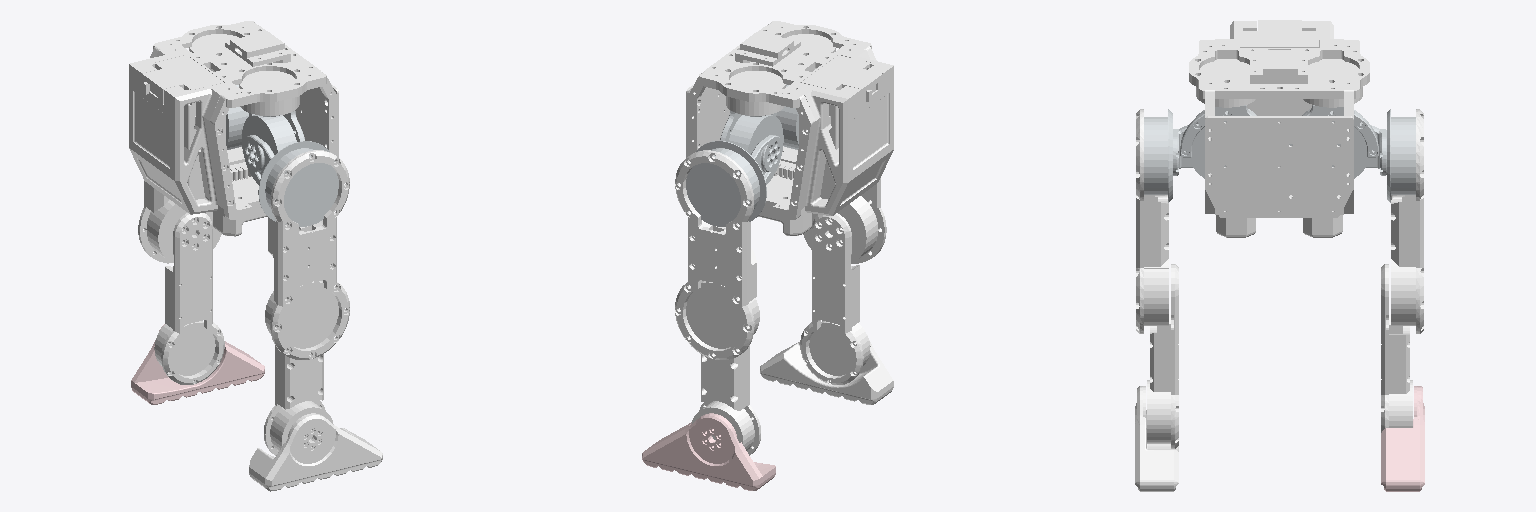
robot.urdf — tinker_urdf:
<?xml version="1.0" encoding="utf-8"?>
<!-- This URDF was automatically created by SolidWorks to URDF Exporter! Originally created by [author] ([email redacted]) 
     Commit Version: 1.6.0-4-g7f85cfe  Build Version: 1.6.7995.38578
     For more information, please see http://wiki.ros.org/sw_urdf_exporter -->
<robot
  name="tinker_urdf">
  <mujoco>
    <compiler
    	meshdir="../meshes/"
    	balanceinertia="true"
    	discardvisual="false" />
  </mujoco>
  <link
    name="base_link">
    <inertial>
      <origin
        xyz="-0.030485 0.000283 0.020881"
        rpy="0 0 0" />
      <mass
        value="2.3933" />
      <inertia
        ixx="0.01079522"
        ixy="0.00006430"
        ixz="-0.00082172"
        iyy="0.01240703"
        iyz="0.00000592"
        izz="0.00996364" /> 
    </inertial>
    <visual>
      <origin
        xyz="0 0 0"
        rpy="0 0 0" />
      <geometry>
        <mesh
          filename="../meshes/base_link.STL" />
      </geometry>
      <material
        name="">
        <color
          rgba="1 1 1 1" />
      </material>
    </visual>
    <collision>
      <origin
        xyz="0 0 0"
        rpy="0 0 0" />
      <geometry>
        <mesh
          filename="../meshes/base_link.STL" />
      </geometry>
    </collision>
  </link>
  <link
    name="link_l_yaw">
    <inertial>
      <origin
        xyz="0.0031721 3.773E-05 -0.050777"     
        rpy="0 0 0" />
      <mass
        value="0.4033" /> 
      <inertia
        ixx="0.00038287"
        ixy="-0.00000022"
        ixz="-0.00000997"
        iyy="0.00023882"
        iyz="-0.00000025"
        izz="0.00020175" />
    </inertial>
    <visual>
      <origin
        xyz="0 0 0"
        rpy="0 0 0" />
      <geometry>
        <mesh
          filename="../meshes/link_l_yaw.STL" />
      </geometry>
      <material
        name="">
        <color
          rgba="0.89804 0.91765 0.92941 1" />
      </material>
    </visual>
    <collision>
      <origin
        xyz="0 0 0"
        rpy="0 0 0" />
      <geometry>
        <mesh
          filename="../meshes/link_l_yaw.STL" />
      </geometry>
    </collision>
  </link>
  <joint
    name="joint_l_yaw"
    type="revolute">
    <origin
      xyz="0.0025357 0.053301 0.056145"
      rpy="0 0 0" />
    <parent
      link="base_link" />
    <child
      link="link_l_yaw" />
    <axis
      xyz="0 0 1" />
    <limit
      lower="-0.66"
      upper="0.66"
      effort="12"
      velocity="20" />
  </joint>
  <link
    name="link_l_roll">
    <inertial>
      <origin
        xyz="0.0090994 0.06545 -0.013394"
        rpy="0 0 0" />
      <mass
        value="0.46748" />
      <inertia
        ixx="0.00037171"
        ixy="-0.00004056"
        ixz="0.00000659"
        iyy="0.00037591"
        iyz="0.00002567"
        izz="0.00036991" />
    </inertial>
    <visual>
      <origin
        xyz="0 0 0"
        rpy="0 0 0" />
      <geometry>
        <mesh
          filename="../meshes/link_l_roll.STL" />
      </geometry>
      <material
        name="">
        <color
          rgba="0.89804 0.91765 0.92941 1" />
      </material>
    </visual>
    <collision>
      <origin
        xyz="0 0 0"
        rpy="0 0 0" />
      <geometry>
        <mesh
          filename="../meshes/link_l_roll.STL" />
      </geometry>
    </collision>
  </link>
  <joint
    name="joint_l_roll"
    type="revolute">
    <origin
      xyz="-0.010958 0 -0.054965"
      rpy="0 0 0" />
    <parent
      link="link_l_yaw" />
    <child
      link="link_l_roll" />
    <axis
      xyz="1 0 0" />
    <limit
      lower="-0.57"
      upper="0.57"
      effort="20"
      velocity="20" />
  </joint>
  <link
    name="link_l_pitch">
    <inertial>
      <origin
        xyz="-0.0013138 0.0056716 -0.12051"
        rpy="0 0 0" />
      <mass
        value="0.56676" />
      <inertia
        ixx="0.00142093"
        ixy="0.00000514"
        ixz="0.00002735"
        iyy="0.00165467"
        iyz="-0.00009716"
        izz="0.00033524" />
    </inertial>
    <visual>
      <origin
        xyz="0 0 0"
        rpy="0 0 0" />
      <geometry>
        <mesh
          filename="../meshes/link_l_pitch.STL" />
      </geometry>
      <material
        name="">
        <color
          rgba="1 1 1 1" />
      </material>
    </visual>
    <collision>
      <origin
        xyz="0 0 0"
        rpy="0 0 0" />
      <geometry>
        <mesh
          filename="../meshes/link_l_pitch.STL" />
      </geometry>
    </collision>
  </link>
  <joint
    name="joint_l_pitch"
    type="revolute">
    <origin
      xyz="0.010958 0.071699 -0.014313"
      rpy="0 0 0" />
    <parent
      link="link_l_roll" />
    <child
      link="link_l_pitch" />
    <axis
      xyz="0 1 0" />
    <limit
      lower="-1.57"
      upper="0.57"
      effort="20"
      velocity="20" />
  </joint>
  <link
    name="link_l_knee">
    <inertial>
      <origin
        xyz="-2.3595E-06 -0.0058981 -0.11387"
        rpy="0 0 0" />
      <mass
        value="0.35345" />
      <inertia
        ixx="0.00078577"
        ixy="-0.00000002"
        ixz="0.00000004"
        iyy="0.00084805"
        iyz="0.00007072"
        izz="0.00012468" />
    </inertial>
    <visual>
      <origin
        xyz="0 0 0"
        rpy="0 0 0" />
      <geometry>
        <mesh
          filename="../meshes/link_l_knee.STL" />
      </geometry>
      <material
        name="">
        <color
          rgba="1 1 1 1" />
      </material>
    </visual>
    <collision>
      <origin
        xyz="0 0 0"
        rpy="0 0 0" />
      <geometry>
        <mesh
          filename="../meshes/link_l_knee.STL" />
      </geometry>
    </collision>
  </link>
  <joint
    name="joint_l_knee"
    type="revolute">
    <origin
      xyz="0 0 -0.14738"
      rpy="0 0 0" />
    <parent
      link="link_l_pitch" />
    <child
      link="link_l_knee" />
    <axis
      xyz="0 1 0" />
    <limit
      lower="0"
      upper="2.57"
      effort="20"
      velocity="20" />
  </joint>
  <link
    name="link_l_ankle">
    <inertial>
      <origin
        xyz="0.020853 0.0048146 -0.030186"
        rpy="0 0 0" />
      <mass
        value="0.17624" />
      <inertia
        ixx="0.00007821"
        ixy="0.00001689"
        ixz="0.00000560"
        iyy="0.00029166"
        iyz="-0.00001298"
        izz="0.00027058" />
    </inertial>
    <visual>
      <origin
        xyz="0 0 0"
        rpy="0 0 0" />
      <geometry>
        <mesh
          filename="../meshes/link_l_ankle.STL" />
      </geometry>
      <material
        name="">
        <color
          rgba="1 0.90588 0.91765 1" />
      </material>
    </visual>
    <!--collision>
      <origin
        xyz="0 0 0"
        rpy="0 0 0" />
      <geometry>
        <mesh
          filename="../meshes/link_l_ankle.STL" />
      </geometry>
    </collision-->
  </link>
  <joint
    name="joint_l_ankle"
    type="revolute">
    <origin
      xyz="0 0 -0.14049"
      rpy="0 0 0" />
    <parent
      link="link_l_knee" />
    <child
      link="link_l_ankle" />
    <axis
      xyz="0 1 0" />
    <limit
      lower="-1.2"
      upper="0.57"
      effort="12"
      velocity="20" />
  </joint>
  <link
    name="link_l_foot">
     <inertial>
      <origin
        xyz="0.020853 0.0048146 -0.030186"
        rpy="0 0 0" />
      <mass
        value="0.01" />
      <inertia
        ixx="0.00001"
        ixy="0.0"
        ixz="0.0"
        iyy="0.00001"
        iyz="-0.0"
        izz="0.00001" />
    </inertial>
    <collision>
      <origin
        xyz="0.015 0 0"
        rpy="0 1.54 0" />
      <geometry>
        <cylinder length="0.15" radius="0.01"/>
      </geometry>
    </collision>
  </link>
  <joint
    name="l_foot_joint"
    type="fixed" dont_collapse="true">
    <origin
      xyz="0 0 -0.05"
      rpy="0 0 0" />
    <parent
      link="link_l_ankle" />
    <child
      link="link_l_foot" />
    <axis
      xyz="0 0 0" />
  </joint>


  <link
    name="link_r_yaw">
    <inertial>
      <origin
        xyz="0.0031721 3.773E-05 -0.050777"
        rpy="0 0 0" />
      <mass
        value="0.4033" />
      <inertia
        ixx="0.00038287"
        ixy="-0.00000022"
        ixz="-0.00000997"
        iyy="0.00023882"
        iyz="-0.00000025"
        izz="0.00020175" />
    </inertial>
    <visual>
      <origin
        xyz="0 0 0"
        rpy="0 0 0" />
      <geometry>
        <mesh
          filename="../meshes/link_r_yaw.STL" />
      </geometry>
      <material
        name="">
        <color
          rgba="0.89804 0.91765 0.92941 1" />
      </material>
    </visual>
    <collision>
      <origin
        xyz="0 0 0"
        rpy="0 0 0" />
      <geometry>
        <mesh
          filename="../meshes/link_r_yaw.STL" />
      </geometry>
    </collision>
  </link>
  <joint
    name="joint_r_yaw"
    type="revolute">
    <origin
      xyz="0.0025357 -0.053425 0.056145"
      rpy="0 0 0" />
    <parent
      link="base_link" />
    <child
      link="link_r_yaw" />
    <axis
      xyz="0 0 1" />
    <limit
      lower="-0.66"
      upper="0.66"
      effort="12"
      velocity="20" />
  </joint>
  <link
    name="link_r_roll">
    <inertial>
      <origin
        xyz="0.0090994 -0.06469 -0.013394"
        rpy="0 0 0" />
      <mass
        value="0.46748" />
      <inertia
        ixx="0.00036594"
        ixy="0.00003990"
        ixz="0.00000659"
        iyy="0.00037591"
        iyz="-0.00002535"
        izz="0.00036414" />
    </inertial>
    <visual>
      <origin
        xyz="0 0 0"
        rpy="0 0 0" />
      <geometry>
        <mesh
          filename="../meshes/link_r_roll.STL" />
      </geometry>
      <material
        name="">
        <color
          rgba="0.89804 0.91765 0.92941 1" />
      </material>
    </visual>
    <collision>
      <origin
        xyz="0 0 0"
        rpy="0 0 0" />
      <geometry>
        <mesh
          filename="../meshes/link_r_roll.STL" />
      </geometry>
    </collision>
  </link>
  <joint
    name="joint_r_roll"
    type="revolute">
    <origin
      xyz="-0.010958 0 -0.054965"
      rpy="0 0 0" />
    <parent
      link="link_r_yaw" />
    <child
      link="link_r_roll" />
    <axis
      xyz="1 0 0" />
    <limit
      lower="-0.57"
      upper="0.57"
      effort="20"
      velocity="20" />
  </joint>
  <link
    name="link_r_pitch">
    <inertial>
      <origin
        xyz="-0.0013138 -0.0047951 -0.11962"
        rpy="0 0 0" />
      <mass
        value="0.56676" />
      <inertia
        ixx="0.00146780"
        ixy="-0.00000514"
        ixz="0.00004195"
        iyy="0.00170154"
        iyz="0.00009425"
        izz="0.00033524" />
    </inertial>
    <visual>
      <origin
        xyz="0 0 0"
        rpy="0 0 0" />
      <geometry>
        <mesh
          filename="../meshes/link_r_pitch.STL" />
      </geometry>
      <material
        name="">
        <color
          rgba="1 1 1 1" />
      </material>
    </visual>
    <collision>
      <origin
        xyz="0 0 0"
        rpy="0 0 0" />
      <geometry>
        <mesh
          filename="../meshes/link_r_pitch.STL" />
      </geometry>
    </collision>
  </link>
  <joint
    name="joint_r_pitch"
    type="revolute">
    <origin
      xyz="0.010958 -0.071575 -0.014313"
      rpy="0 0 0" />
    <parent
      link="link_r_roll" />
    <child
      link="link_r_pitch" />
    <axis
      xyz="0 1 0" />
    <limit
      lower="-1.57"
      upper="0.57"
      effort="20"
      velocity="20" />
  </joint>
  <link
    name="link_r_knee">
    <inertial>
      <origin
        xyz="7.3527E-06 0.0067747 -0.11375"
        rpy="0 0 0" />
      <mass
        value="0.35345" />
      <inertia
        ixx="0.00078911"
        ixy="-0.00000002"
        ixz="-0.00000011"
        iyy="0.00085139"
        iyz="-0.00007058"
        izz="0.00012468" />
    </inertial>
    <visual>
      <origin
        xyz="0 0 0"
        rpy="0 0 0" />
      <geometry>
        <mesh
          filename="../meshes/link_r_knee.STL" />
      </geometry>
      <material
        name="">
        <color
          rgba="1 1 1 1" />
      </material>
    </visual>
    <collision>
      <origin
        xyz="0 0 0"
        rpy="0 0 0" />
      <geometry>
        <mesh
          filename="../meshes/link_r_knee.STL" />
      </geometry>
    </collision>
  </link>
  <joint
    name="joint_r_knee"
    type="revolute">
    <origin
      xyz="0 0 -0.14738"
      rpy="0 0 0" />
    <parent
      link="link_r_pitch" />
    <child
      link="link_r_knee" />
    <axis
      xyz="0 1 0" />
    <limit
      lower="0"
      upper="2.57"
      effort="20"
      velocity="20" />
  </joint>
  <link
    name="link_r_ankle">
    <inertial>
      <origin
        xyz="0.014562 -0.0039946 -0.031306"
        rpy="0 0 0" />
      <mass
        value="0.175" />
      <inertia
        ixx="0.00007468"
        ixy="-0.00000611"
        ixz="0.00001055"
        iyy="0.00032189"
        iyz="0.00001463"
        izz="0.00030379" />
    </inertial>
    <visual>
      <origin
        xyz="0 0 0"
        rpy="0 0 0" />
      <geometry>
        <mesh
          filename="../meshes/link_r_ankle.STL" />
      </geometry>
      <material
        name="">
        <color
          rgba="1 1 1 1" />
      </material>
    </visual>
    <!--collision>
      <origin
        xyz="0 0 0"
        rpy="0 0 0" />
      <geometry>
        <mesh
          filename="../meshes/link_r_ankle.STL" />
      </geometry>
    </collision-->
  </link>
  <joint
    name="joint_r_ankle"
    type="revolute">
    <origin
      xyz="0 0 -0.14049"
      rpy="0 0 0" />
    <parent
      link="link_r_knee" />
    <child
      link="link_r_ankle" />
    <axis
      xyz="0 1 0" />
    <limit
      lower="-1.2"
      upper="0.57"
      effort="12"
      velocity="20" />
  </joint>

  <link
    name="link_r_foot">
     <inertial>
      <origin
        xyz="0.020853 0.0048146 -0.030186"
        rpy="0 0 0" />
      <mass
        value="0.01" />
      <inertia
        ixx="0.00001"
        ixy="0.0"
        ixz="0.0"
        iyy="0.00001"
        iyz="0.0"
        izz="0.00001" />
    </inertial>
    <collision>
      <origin
        xyz="0.015 0 0"
        rpy="0 1.54 0" />
      <geometry>
        <cylinder length="0.15" radius="0.01"/>
      </geometry>
    </collision>
  </link>
  <joint
    name="r_foot_joint"
    type="fixed" dont_collapse="true">
    <origin
      xyz="0 0 -0.05"
      rpy="0 0 0" />
    <parent
      link="link_r_ankle" />
    <child
      link="link_r_foot" />
    <axis
      xyz="0 0 0" />
  </joint>
</robot>

--- Facts derived from the render (not from the file) ---
Views: 3 orthographic renders of the robot side by side, from view 1: azimuth 30°, elevation 25°; view 2: azimuth 150°, elevation 25°; view 3: azimuth 270°, elevation 25°.
Robot: tinker_urdf — 13 links, 12 joints (10 revolute, 2 fixed); root link base_link; default pose: every joint at zero.
Links seen in each view (by area): view 1: base_link, link_r_pitch, link_l_knee, link_r_ankle, link_r_roll, link_r_knee, link_l_ankle, link_l_pitch, link_r_yaw, link_l_yaw; view 2: base_link, link_l_pitch, link_r_knee, link_l_ankle, link_l_roll, link_l_knee, link_r_ankle, link_r_pitch, link_l_yaw, link_r_yaw; view 3: base_link, link_l_pitch, link_r_pitch, link_r_knee, link_l_knee, link_l_ankle, link_l_roll, link_r_roll, link_r_ankle, link_l_yaw, link_r_yaw.
Link boxes in pixels (x1,y1,x2,y2): base_link: (129,21,338,236); link_r_pitch: (265,150,349,359); link_l_knee: (154,213,224,384); link_r_ankle: (249,413,382,491); link_r_roll: (243,135,338,226); link_r_knee: (264,345,332,455); link_l_ankle: (131,324,264,404); link_l_pitch: (138,181,221,263); link_r_yaw: (242,111,304,184); link_l_yaw: (226,85,254,149); base_link: (686,21,893,235); link_l_pitch: (675,150,759,359); link_r_knee: (800,213,869,384); link_l_ankle: (642,413,775,490); link_l_roll: (686,135,781,226); link_l_knee: (692,345,760,455); link_r_ankle: (760,328,893,404); link_r_pitch: (803,178,886,263); link_l_yaw: (720,110,783,184); link_r_yaw: (771,84,798,149); base_link: (1189,20,1369,237); link_l_pitch: (1391,109,1423,333); link_r_pitch: (1136,109,1168,333); link_r_knee: (1147,264,1178,448); link_l_knee: (1381,264,1412,432); link_l_ankle: (1381,386,1424,491); link_l_roll: (1366,109,1415,202); link_r_roll: (1144,109,1192,202); link_r_ankle: (1135,386,1178,491); link_l_yaw: (1289,105,1378,178); link_r_yaw: (1180,105,1256,178).
Bounding box of the posed robot: 0.2052 × 0.2961 × 0.4556 m (x, y, z).
Meshes: 11 distinct files referenced, 11 mesh visuals loaded (11 binary STL).
